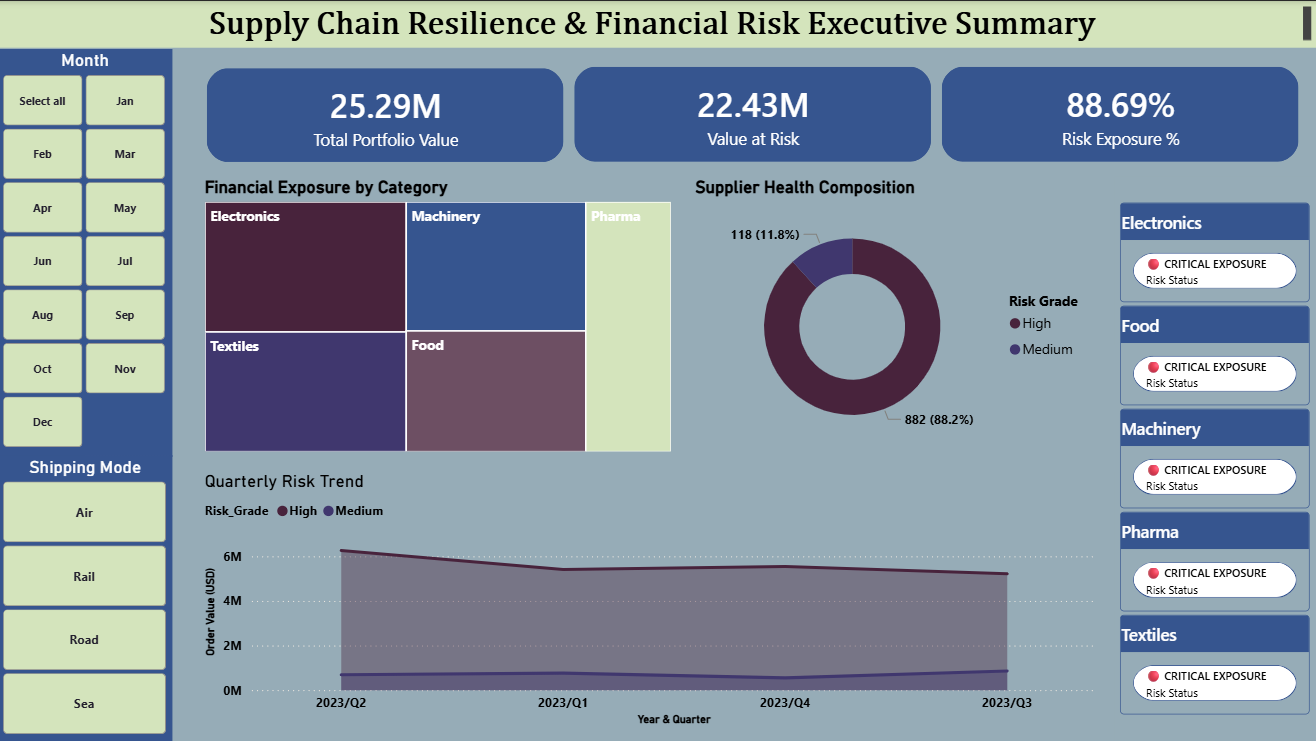

The dashboard page shown, as its layout file describes it:
{"tool":"powerbi","page":{"name":"Strategic Risk Overview","canvas":[1280,720],"ordinal":0},"visuals":[{"type":"treemap","title":"Financial Exposure by Category","fields":{"Group":["orders_fact.Product_Category"],"Values":["Sum(orders_fact.Order_Value_USD)"]},"box":[197.1,170.6,462.2,271.7],"z":0},{"type":"areaChart","title":"Quarterly Risk Trend","fields":{"Category":["DateTable.YearQuarter"],"Y":["Sum(orders_fact.Order_Value_USD)"],"Series":["suppliers_dim.Risk_Grade"]},"box":[197.1,455.5,874.6,251.8],"z":1000},{"type":"donutChart","title":"Supplier Health Composition","fields":{"Category":["suppliers_dim.Risk_Grade"],"Y":["CountNonNull(orders_fact.Supplier_ID)"]},"box":[672.5,170.6,399.2,271.7],"z":2000},{"type":"cardVisual","fields":{"Data":["Measuretable.Total Portfolio Value"]},"box":[186.7,48.3,380,125],"z":3000},{"type":"textbox","box":[0,0,1280,45],"z":4000},{"type":"cardVisual","fields":{"Data":["Measuretable.Value at Risk"]},"box":[543.3,46.7,380,126.7],"z":5000},{"type":"cardVisual","fields":{"Data":["Measuretable.Risk Exposure %"]},"box":[900,46.7,380,126.7],"z":6000},{"type":"cardVisual","fields":{"Data":["Measuretable.Risk Status"],"Rows":["orders_fact.Product_Category"]},"box":[1085,170,195,550],"z":7000},{"type":"advancedSlicerVisual","title":"Month","fields":{"Values":["DateTable.MonthShort"]},"box":[0,46.7,170,395],"z":8000},{"type":"advancedSlicerVisual","title":"Shipping Mode","fields":{"Values":["orders_fact.Shipping_mode"]},"box":[0,441.7,170,278.3],"z":9000}]}

Visuals, with their boxes in screenshot pixels (x1, y1, x2, y2), scaled from the page's 1280x720 canvas onto the 1316x741 screenshot:
"Financial Exposure by Category" treemap: left=203, top=176, right=678, bottom=455
"Quarterly Risk Trend" areaChart: left=203, top=469, right=1102, bottom=728
"Supplier Health Composition" donutChart: left=691, top=176, right=1102, bottom=455
cardVisual - Measuretable.Total Portfolio Value: left=192, top=50, right=583, bottom=178
textbox: left=0, top=0, right=1315, bottom=46
cardVisual - Measuretable.Value at Risk: left=559, top=48, right=949, bottom=178
cardVisual - Measuretable.Risk Exposure %: left=925, top=48, right=1315, bottom=178
cardVisual - Measuretable.Risk Status x orders_fact.Product_Category: left=1116, top=175, right=1315, bottom=740
"Month" advancedSlicerVisual: left=0, top=48, right=175, bottom=455
"Shipping Mode" advancedSlicerVisual: left=0, top=455, right=175, bottom=740
